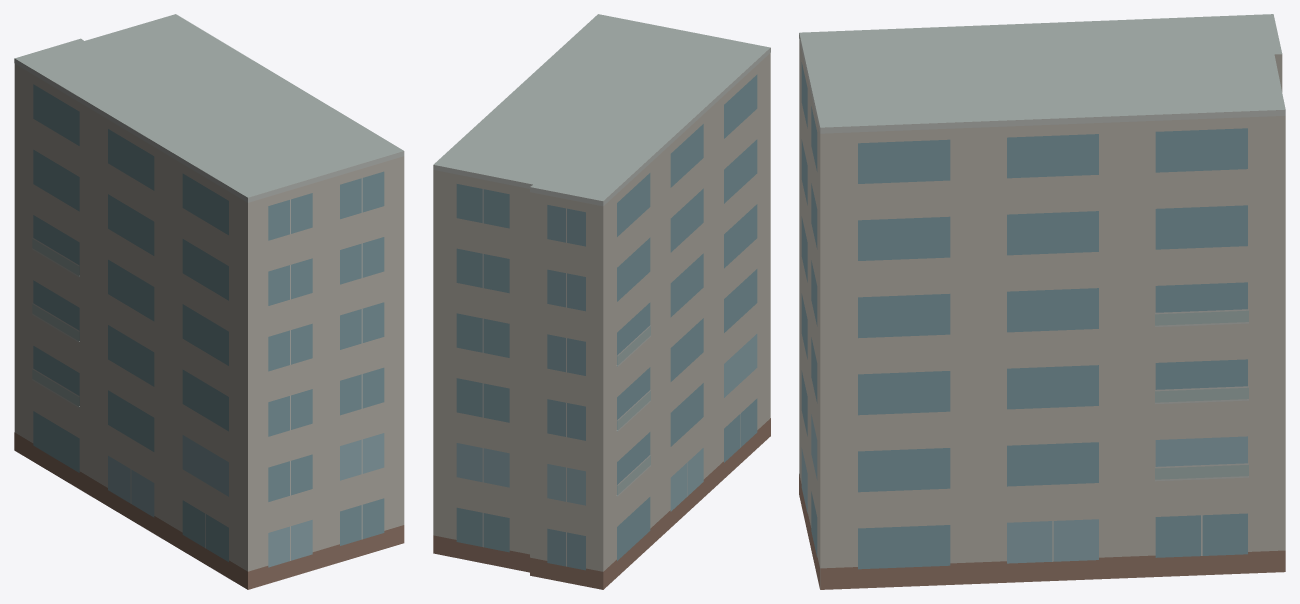
The model's file is survey-upis-32980243.glb.
The picture shows the model from 3 angles, left to right: view 1: azimuth 30°, elevation 25°; view 2: azimuth 150°, elevation 25°; view 3: azimuth 270°, elevation 25°; orthographic projection. The views are drawn at different scales.
Visible parts, largest first — view 1: survey-upis-32980243.tmp; view 2: survey-upis-32980243.tmp; view 3: survey-upis-32980243.tmp.
Part boxes in pixels (x1,y1,x2,y2): survey-upis-32980243.tmp: (14, 14, 404, 589); survey-upis-32980243.tmp: (433, 14, 770, 589); survey-upis-32980243.tmp: (799, 14, 1285, 589).
Bounding box in the file's own units: 9.87 × 18.7 × 17.85.
